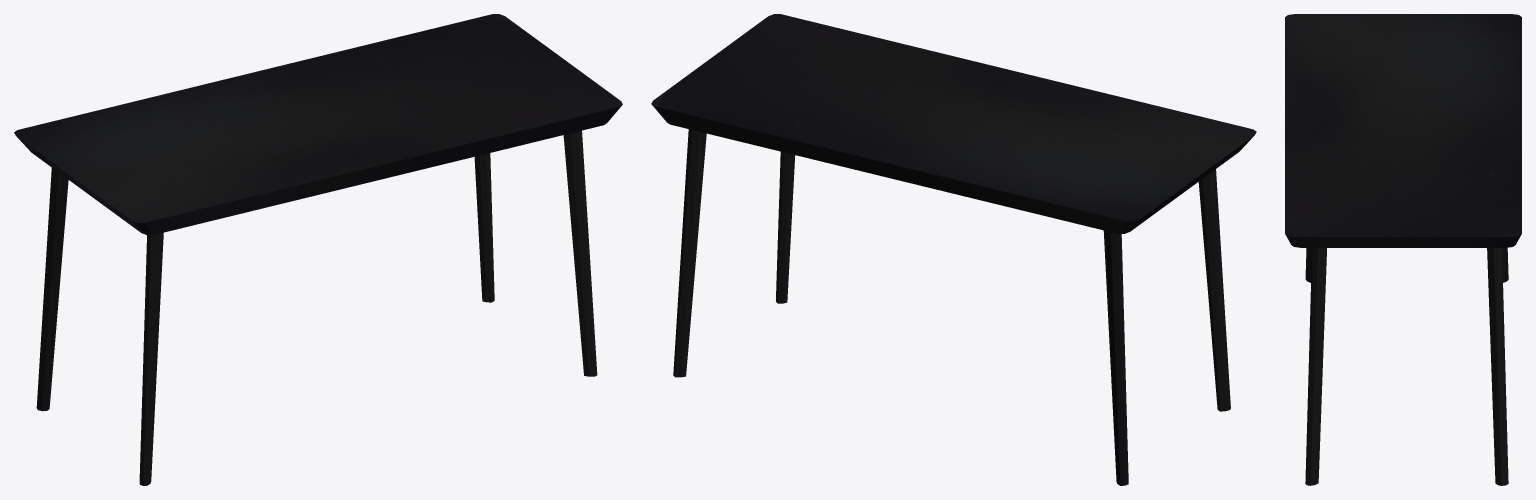
File: Desk.fbx
3 views of the same model, side by side, from view 1: azimuth 30°, elevation 25°; view 2: azimuth 150°, elevation 25°; view 3: azimuth 270°, elevation 25° (orthographic). The views are drawn at different scales.
Visible parts, largest first — view 1: Desk; view 2: Desk; view 3: Desk.
Part boxes in pixels (left/top/right/bottom): Desk: left=14, top=14, right=622, bottom=485; Desk: left=651, top=14, right=1256, bottom=485; Desk: left=1285, top=14, right=1521, bottom=485.
Size of the model in its own units: 1.2 by 0.5404 by 0.6451.
Materials: 1 (1 with a texture image).
